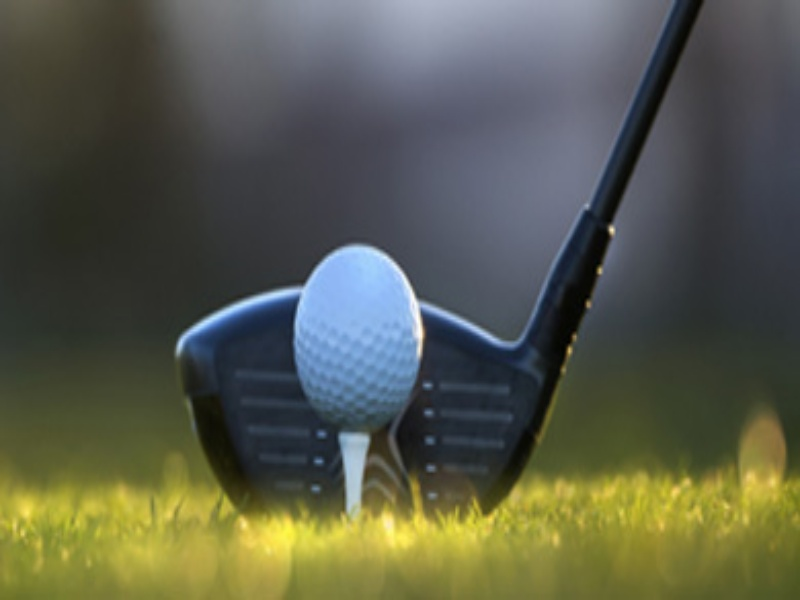golf_ball: (291, 242, 425, 430)
